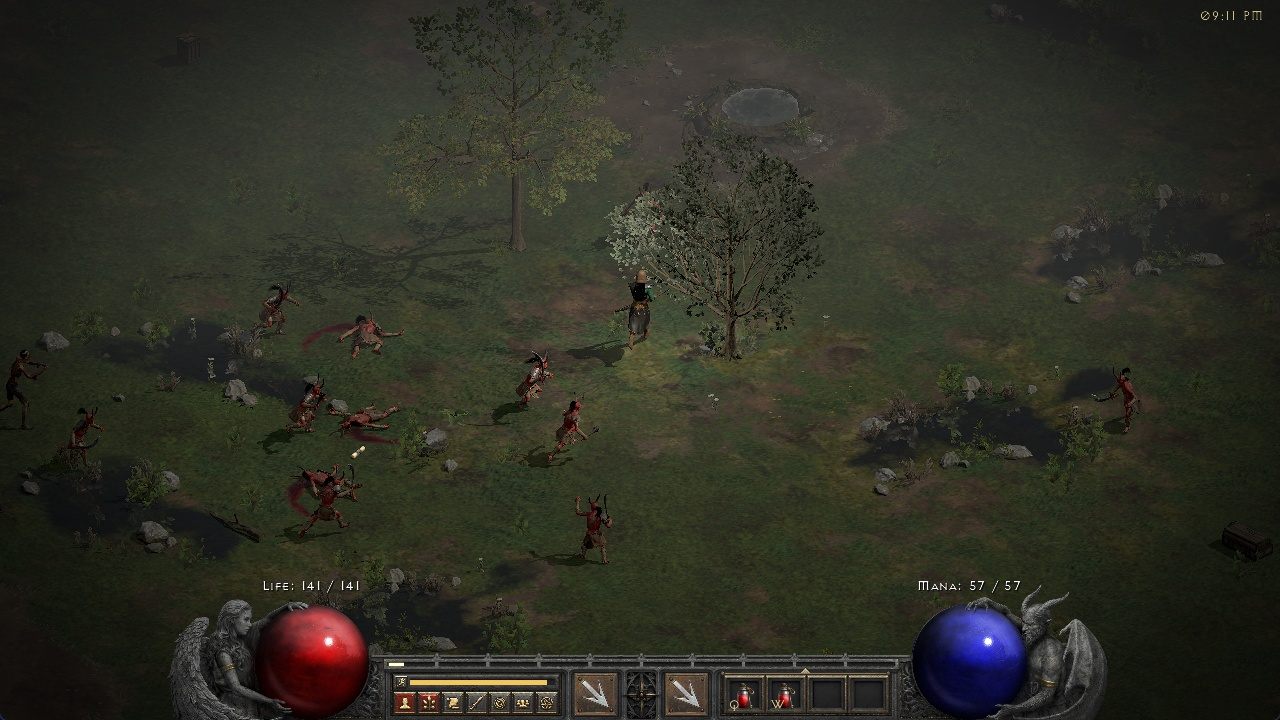fallen: (297, 462, 356, 536), (1093, 363, 1146, 440), (547, 389, 601, 463), (570, 490, 621, 568), (280, 371, 330, 438), (62, 404, 103, 469), (262, 279, 305, 339), (513, 346, 551, 407)
